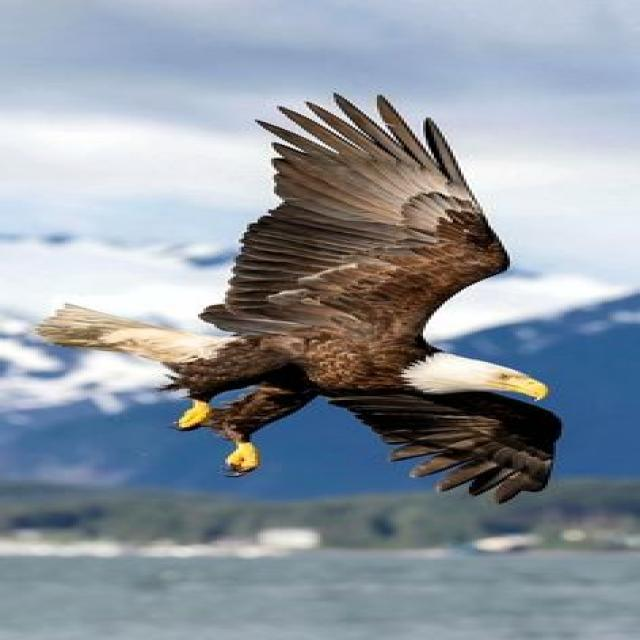Carnivorous: (38, 95, 564, 506)
